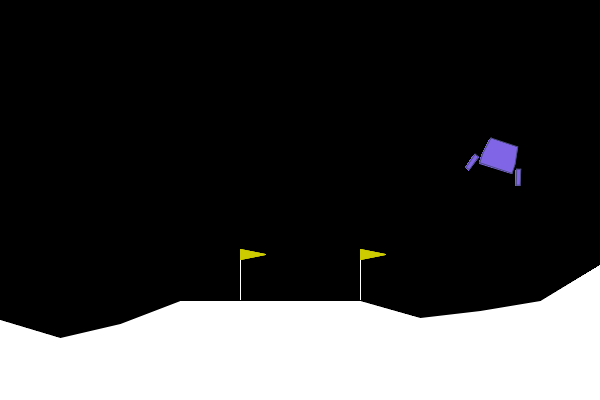lander: (464, 131, 533, 188)
